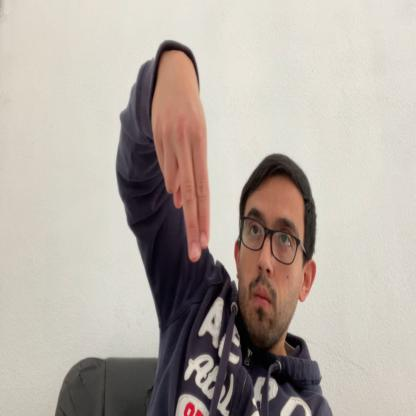N: (150, 64, 210, 263)
